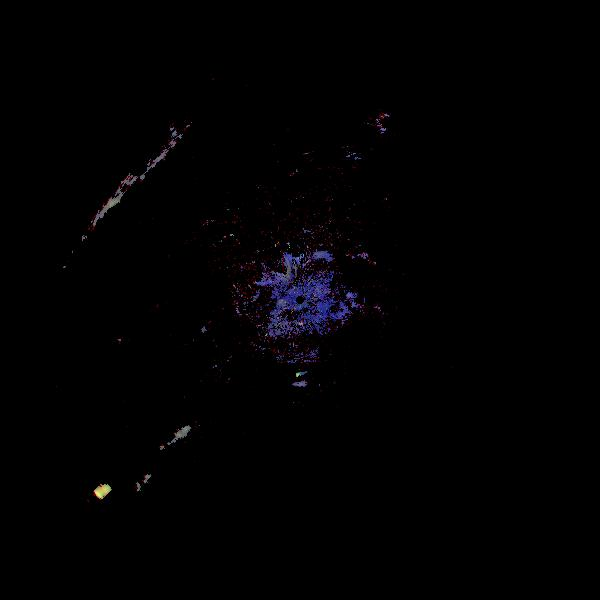roost: (293, 372, 302, 381)
